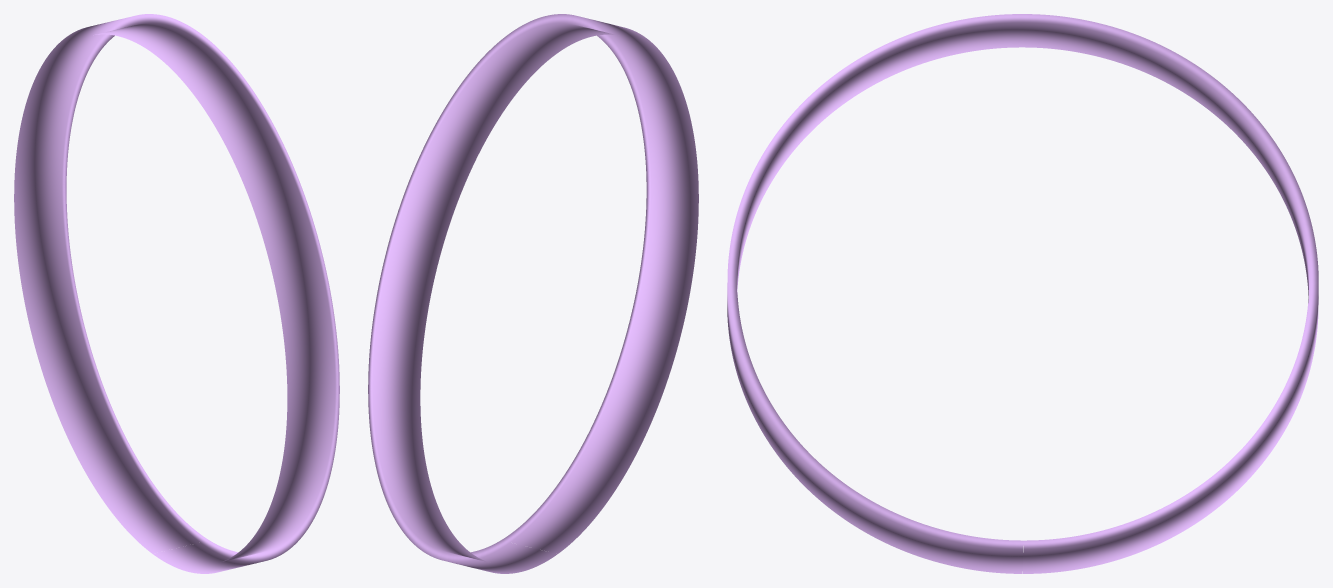
File: coil_coil_6_tube.gltf
3 renders of one model, left to right at view 1: azimuth 30°, elevation 25°; view 2: azimuth 150°, elevation 25°; view 3: azimuth 270°, elevation 25°, orthographic. The views are drawn at different scales.
Visible parts, largest first — view 1: Renderer Node; view 2: Renderer Node; view 3: Renderer Node.
Boxes of the visible parts, x1=… form: Renderer Node: x1=14, y1=14, x2=339, y2=573; Renderer Node: x1=368, y1=14, x2=698, y2=573; Renderer Node: x1=727, y1=14, x2=1318, y2=573.
Size of the model in its own units: 0.0635 by 0.6101 by 0.6103.
